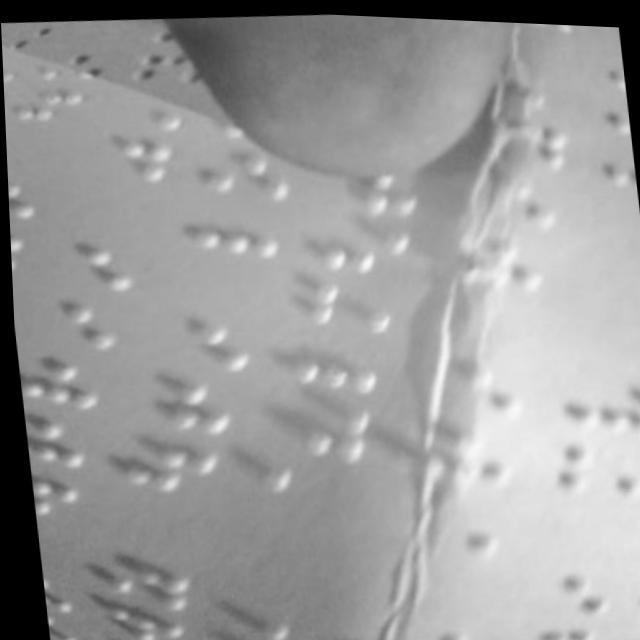braiile: (304, 208, 420, 274), (111, 433, 218, 501), (150, 305, 256, 373), (502, 551, 612, 616), (184, 140, 288, 206), (95, 550, 199, 615), (271, 399, 378, 462), (282, 324, 378, 394), (543, 427, 640, 496), (180, 198, 282, 263), (128, 372, 231, 435), (293, 268, 389, 335), (14, 350, 111, 413), (27, 293, 122, 354), (38, 236, 137, 294), (553, 364, 640, 429)
